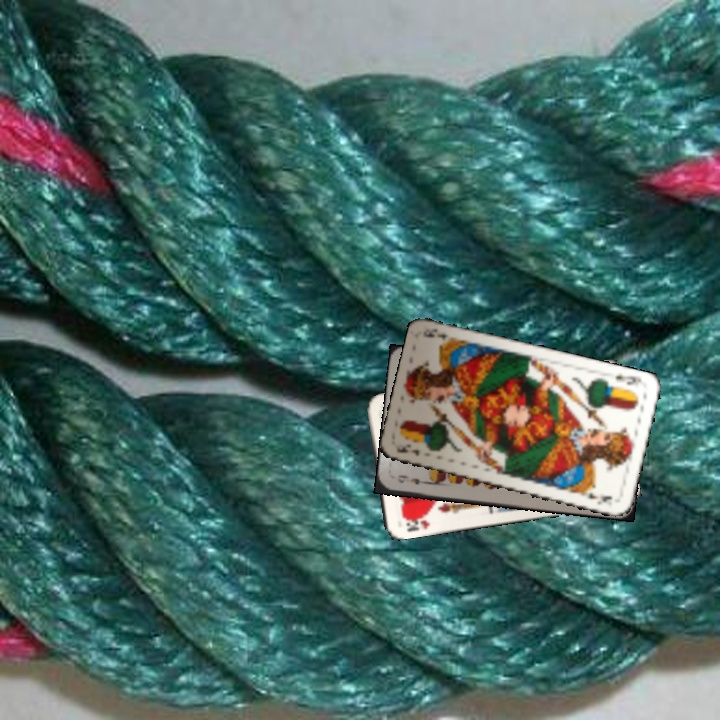E9: (393, 471, 431, 487)
EK: (611, 370, 644, 390), (393, 440, 422, 458)
HK: (398, 511, 432, 534)
